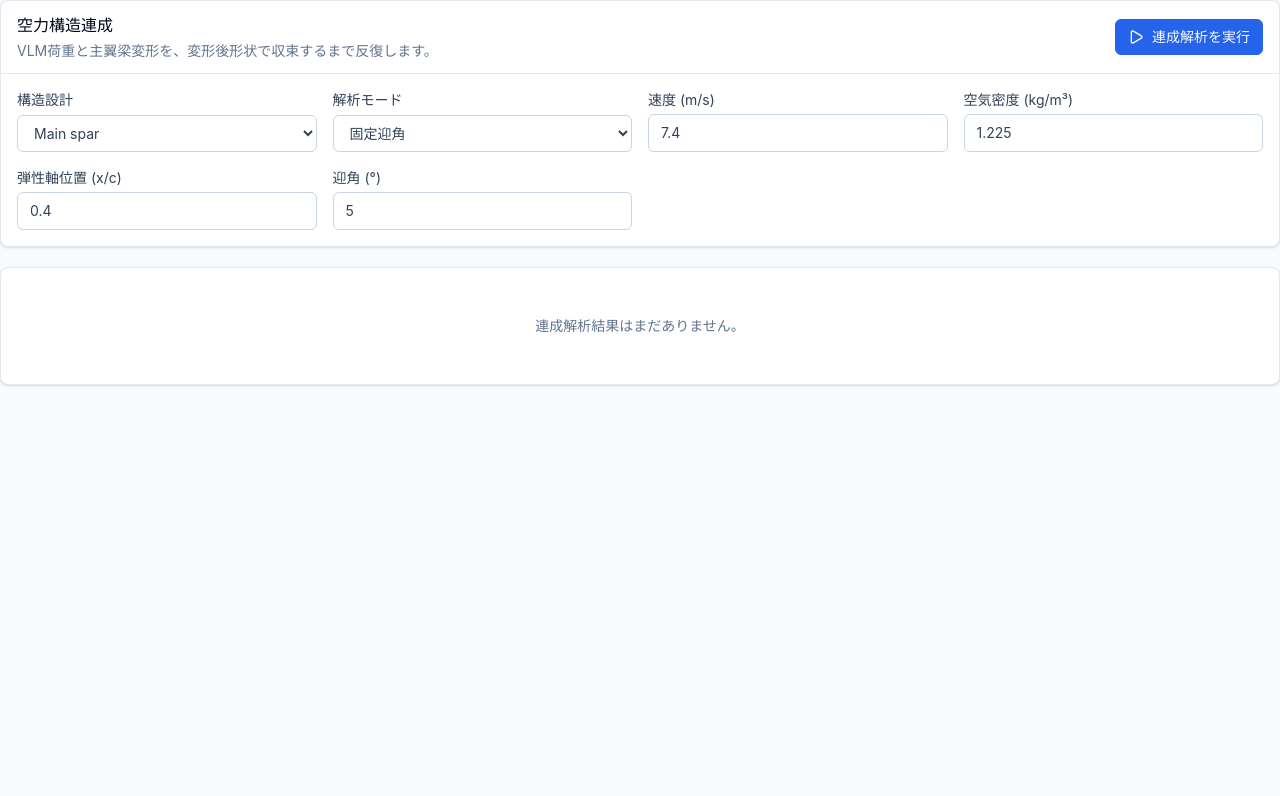
AeroelasticAnalysisPanel › runs and presents a converged coupled result
Click the button "連成解析を実行".
click(1189, 37)  # box [1115, 19, 1263, 55]
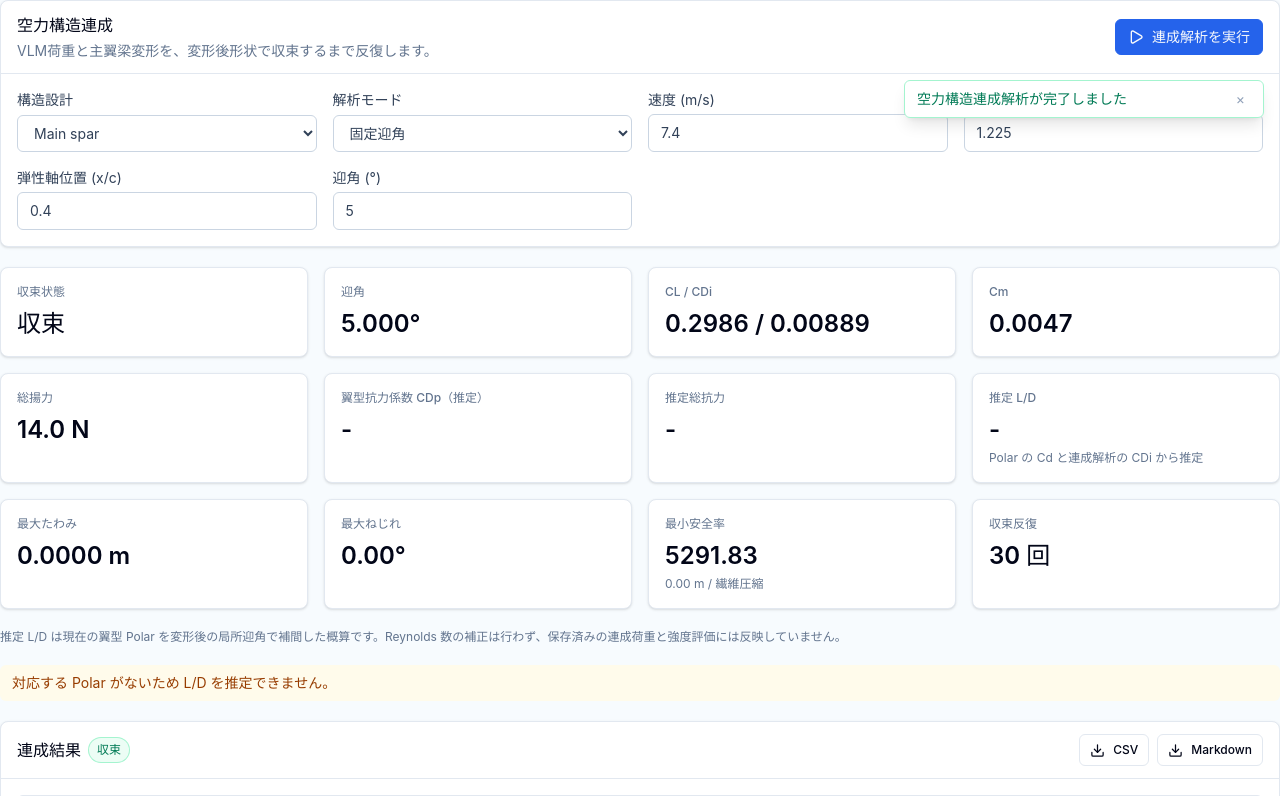
Check: the text "収束" below "収束状態" is shown, box [17, 309, 65, 338]
Check: the button with aria-label "連成結果をCSV出力" is shown, box [1079, 734, 1149, 766]
